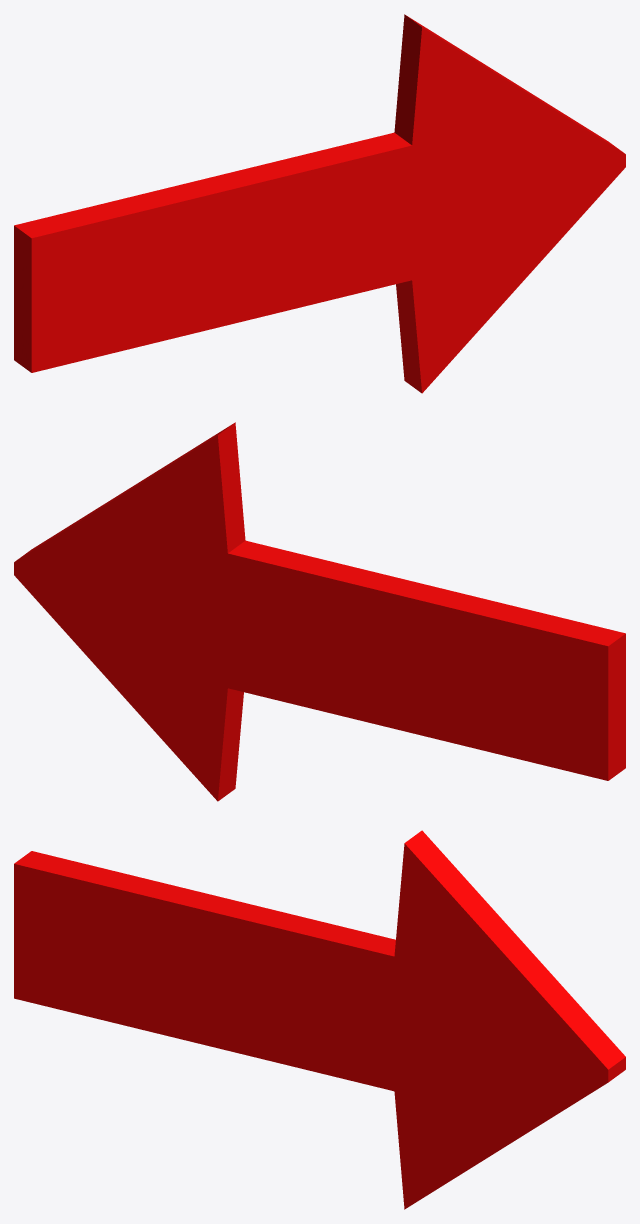
The model's file is Arrow.FBX.
3 renders of one model, top to bottom at view 1: azimuth 30°, elevation 25°; view 2: azimuth 150°, elevation 25°; view 3: azimuth 330°, elevation 25°, orthographic.
Parts seen in each view (by area): view 1: Arrow; view 2: Arrow; view 3: Arrow.
Part boxes in pixels (x1,y1,x2,y2): Arrow: (14, 14, 625, 393); Arrow: (14, 422, 625, 801); Arrow: (14, 830, 625, 1209).
Bounding box in the file's own units: 50.4 × 2.59 × 29.7.
